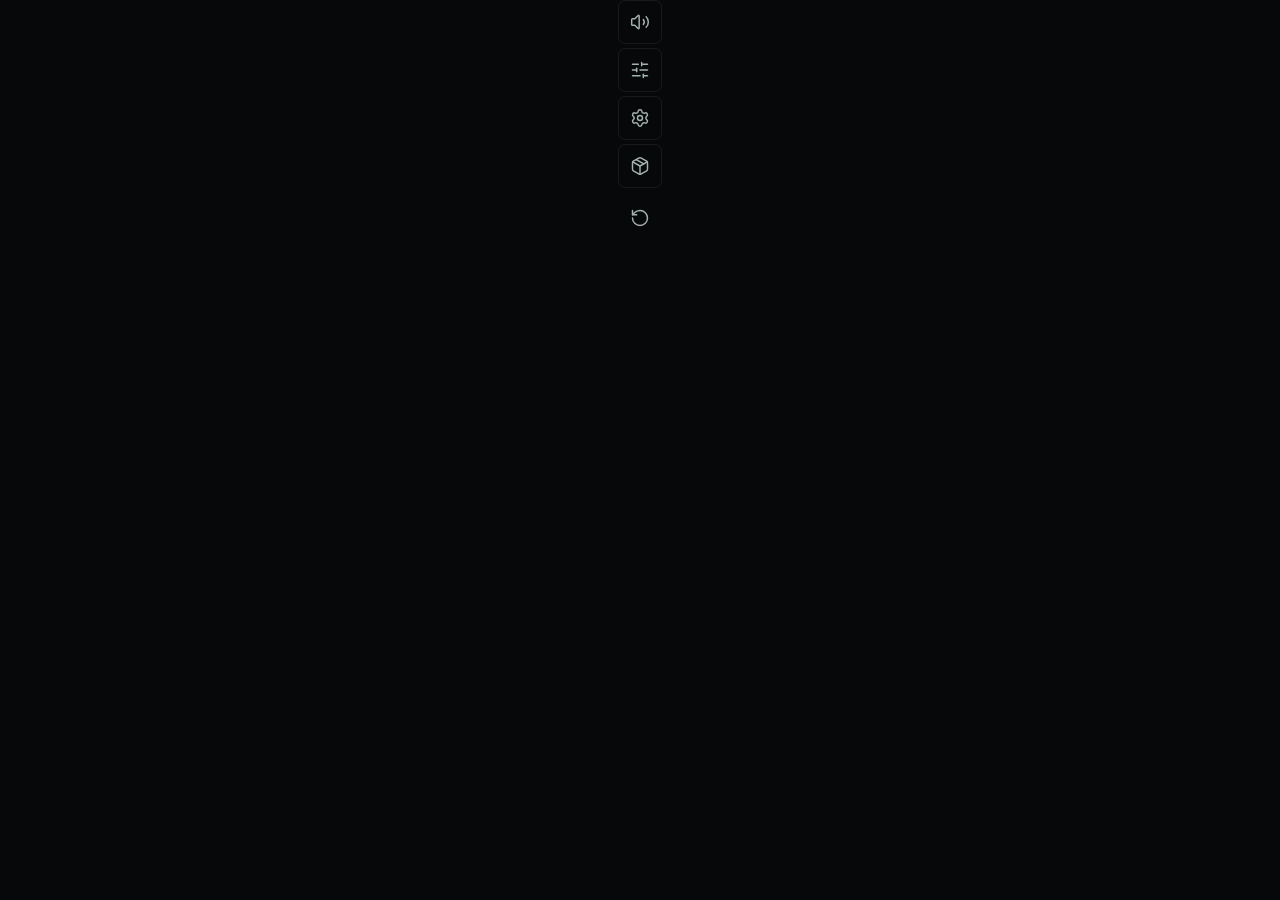
ToolRail — Soundboard drawer › opens the Soundboard drawer when the launcher is clicked
Click the button with test id "btn-tool-soundboard": (640, 22) [618,0,662,44]
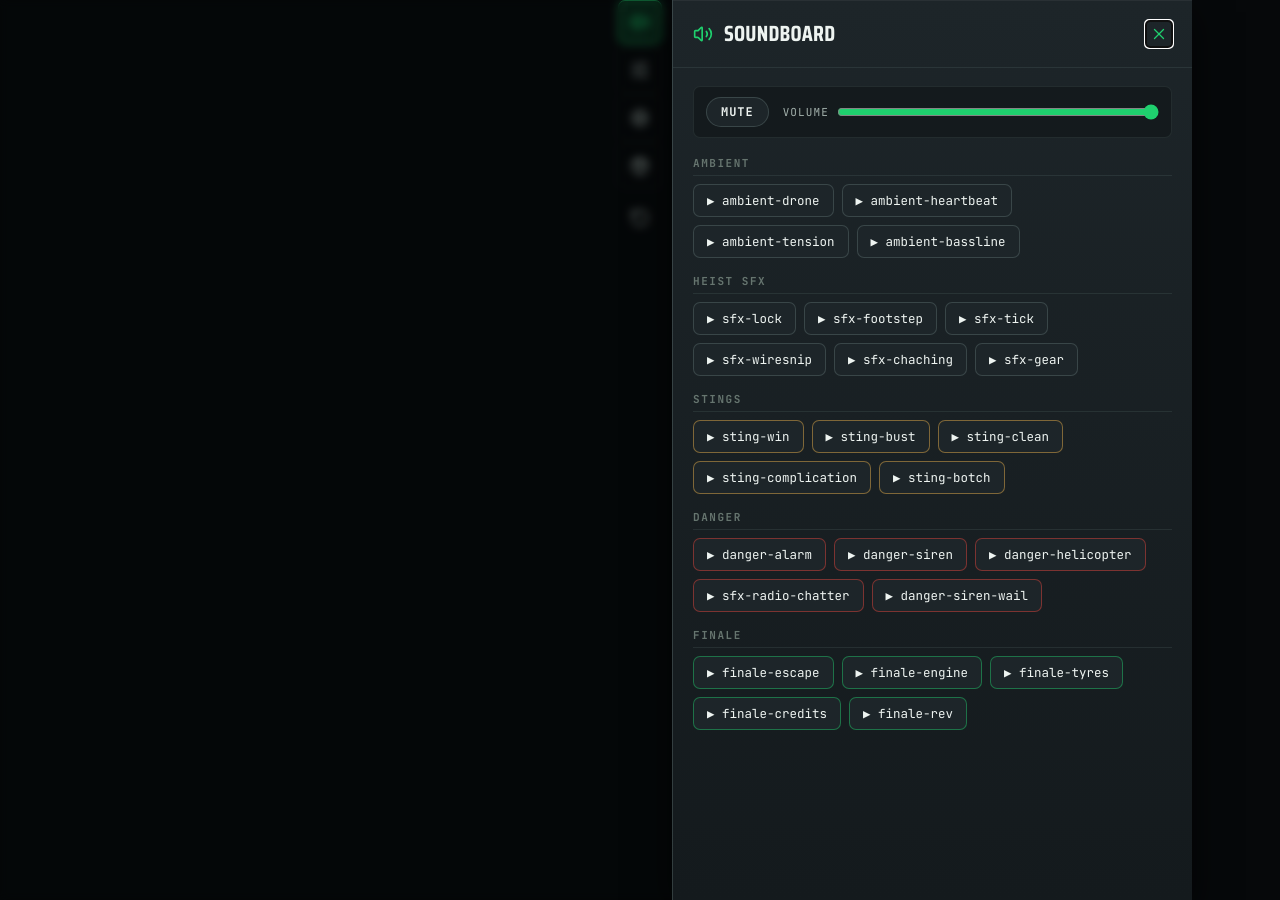
Result: the element with test id "drawer-soundboard" is shown at [672,0,1192,899]
